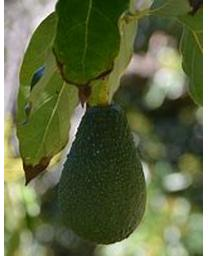avocado: (55, 104, 149, 247)
